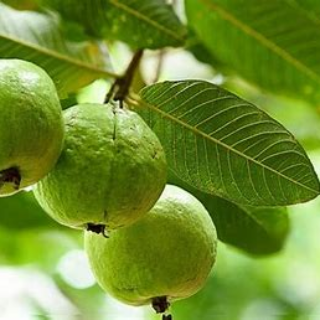oi: (44, 100, 169, 231), (84, 194, 220, 311)
